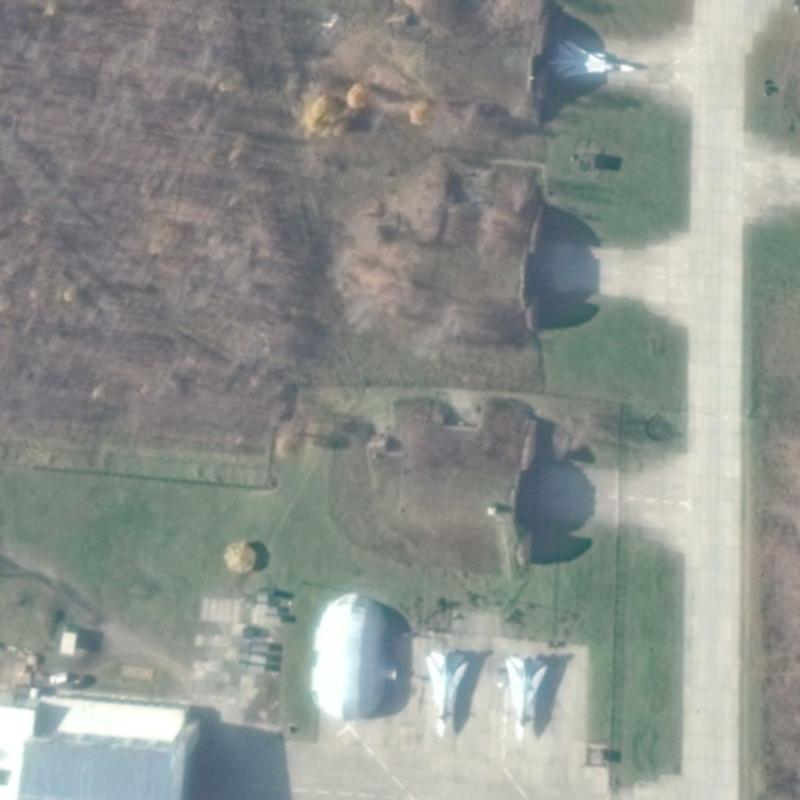A20: (502, 652, 550, 744), (423, 648, 471, 740), (553, 37, 638, 79)
